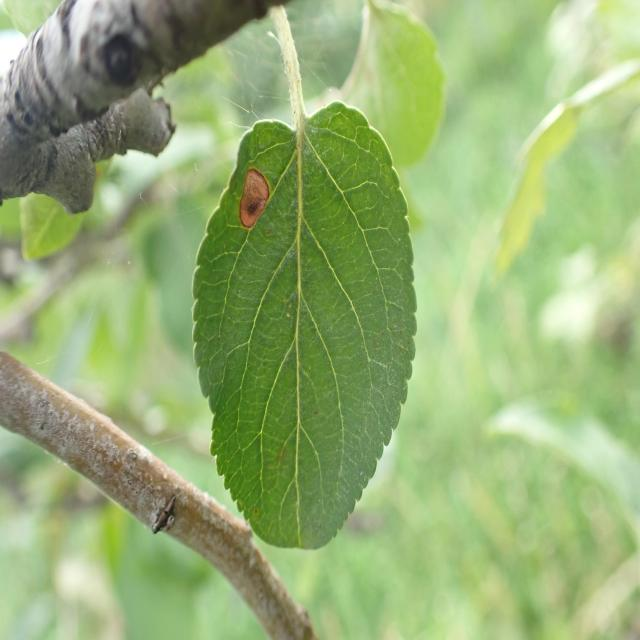Black Rot: (227, 128, 278, 254)
